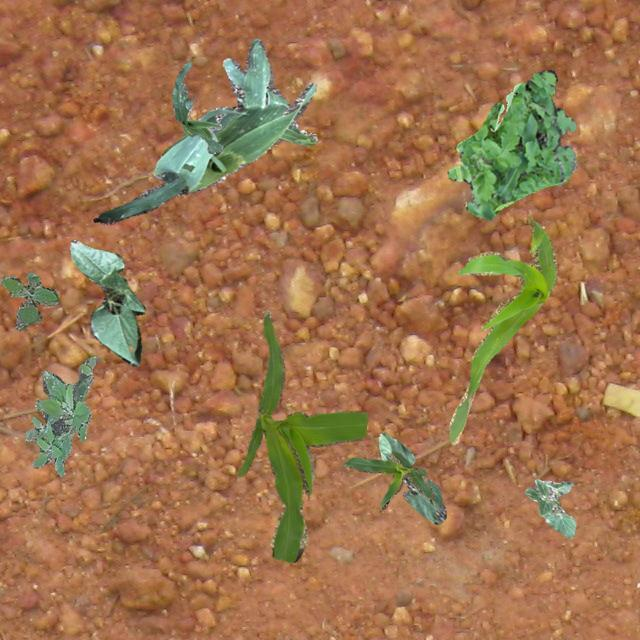crop: (92, 38, 316, 222), (236, 309, 366, 562), (448, 216, 556, 444), (68, 238, 144, 366), (378, 431, 446, 524), (343, 451, 433, 508), (172, 61, 222, 152), (524, 478, 574, 538)
weed: (446, 68, 576, 218), (23, 354, 98, 476), (0, 272, 58, 330)
